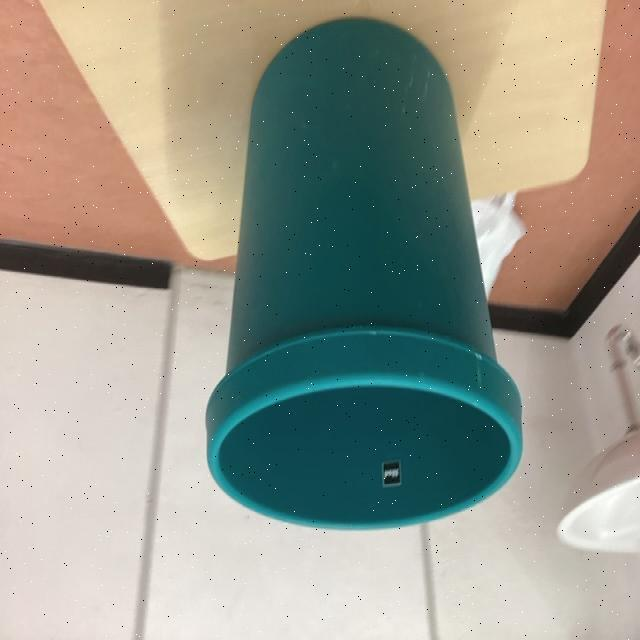garbage container: (188, 21, 532, 558)
